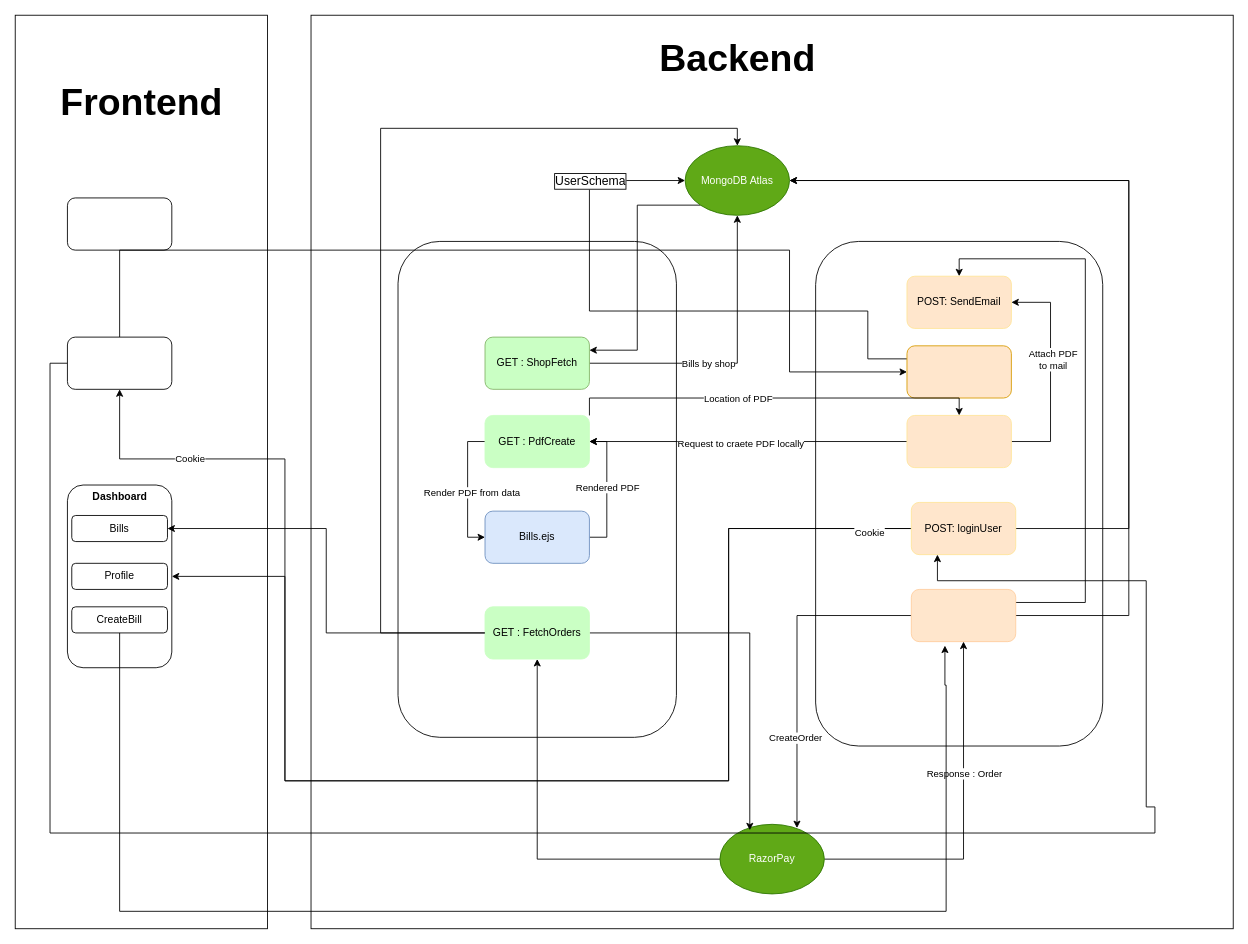
The diagram is 1248 pixels wide and 944 high, and some of its shapes have lost their labels. The centre of each missing label's shape, as x and y in pixels:
"Home" goes at point (119, 223).
"POST : AddBill" goes at point (963, 615).
"POST : AddUser" goes at point (958, 371).
"POST: pdfDownload" goes at point (958, 441).
"SignUp" goes at point (119, 362).
